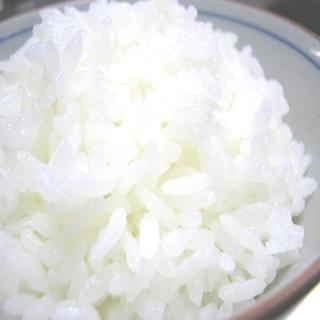Nasi: (1, 1, 318, 320)
